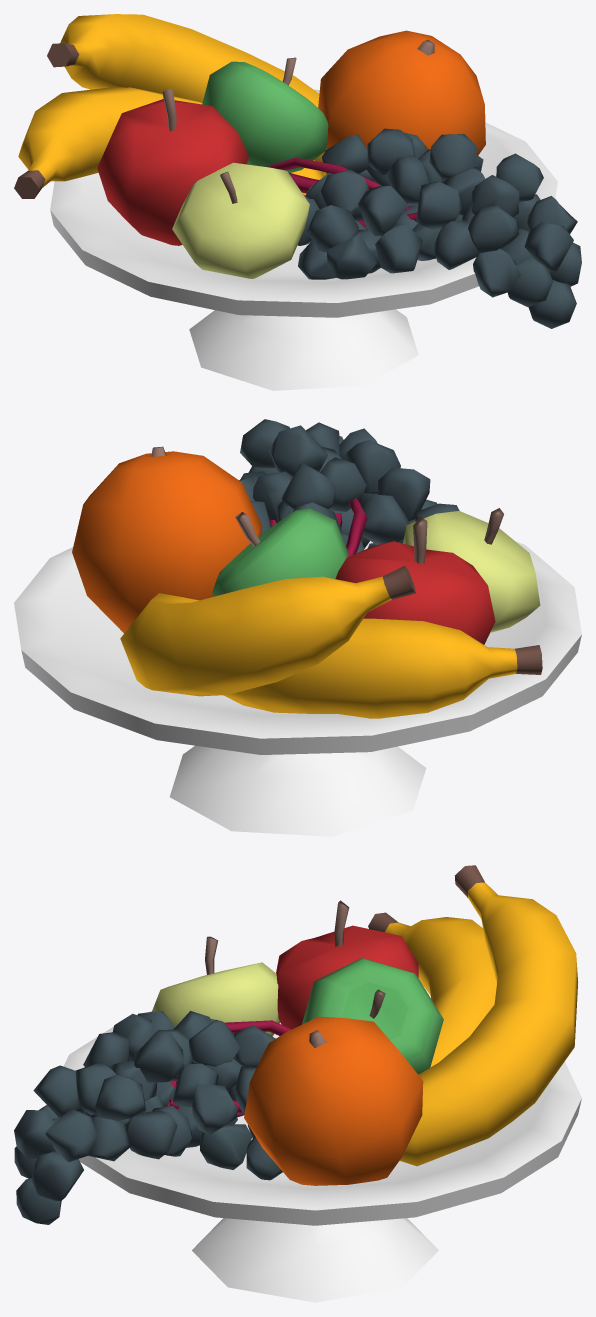
File: Fruits_01.obj
3 views of the same model, one above another, from view 1: azimuth 30°, elevation 25°; view 2: azimuth 150°, elevation 25°; view 3: azimuth 270°, elevation 25° (orthographic). The views are drawn at different scales.
Parts seen in each view (by area): view 1: Fruits_01; view 2: Fruits_01; view 3: Fruits_01.
Part boxes in pixels (left/top/right/bottom): Fruits_01: left=14, top=14, right=581, bottom=390; Fruits_01: left=14, top=419, right=581, bottom=836; Fruits_01: left=14, top=865, right=581, bottom=1302.
Size of the model in its own units: 0.4538 by 0.2619 by 0.4503.
2 materials, 2 textured.
